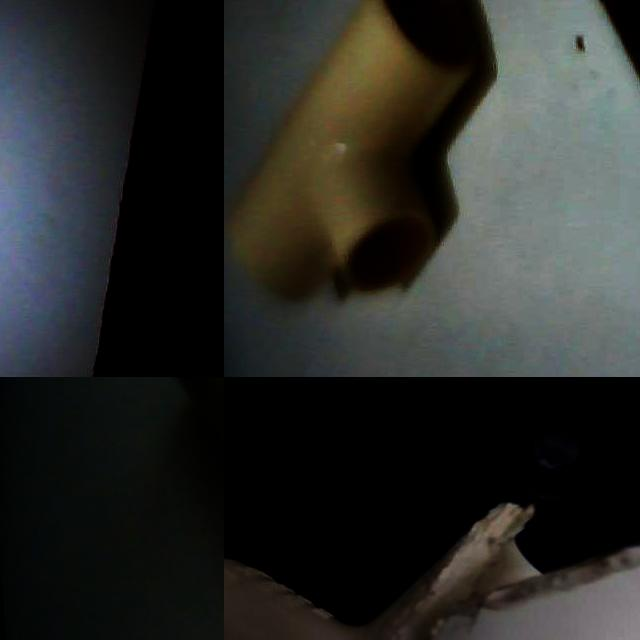Defective: (469, 497, 640, 615), (435, 562, 483, 640)
T Joint: (229, 0, 478, 301)
